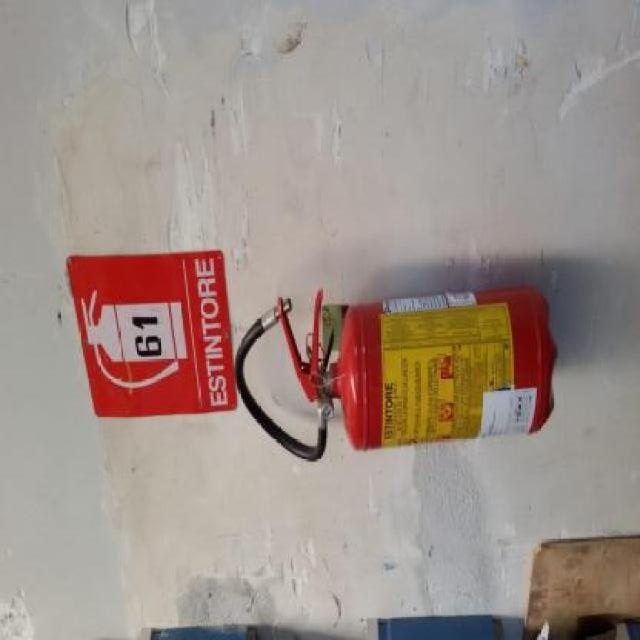fire extinguisher: (234, 287, 558, 461)
